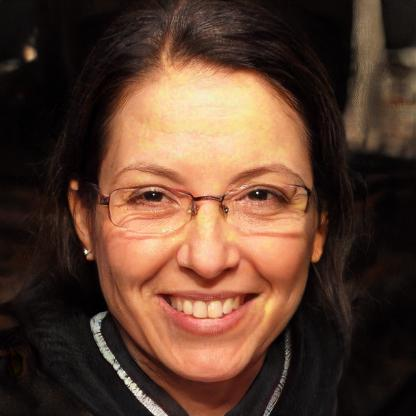glasses: (102, 180, 319, 232)
